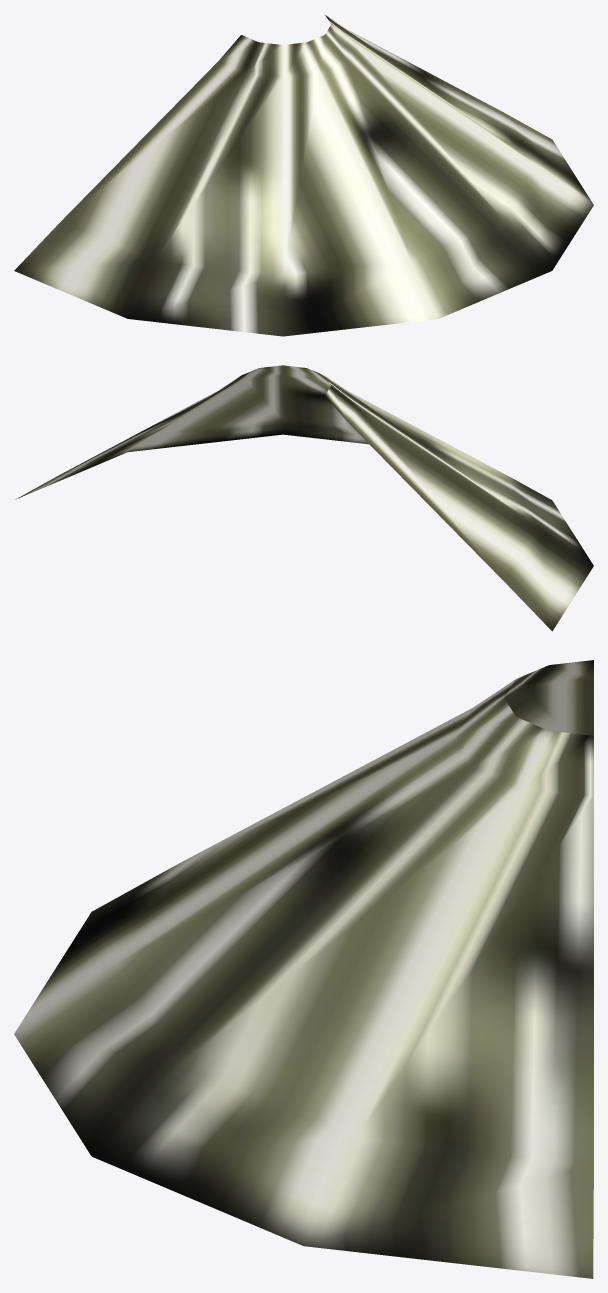
The model's file is pir_m_efx_chr_coneRays.fbx.
3 renders of one model, top to bottom at view 1: azimuth 30°, elevation 25°; view 2: azimuth 150°, elevation 25°; view 3: azimuth 270°, elevation 25°, orthographic. The views are drawn at different scales.
Visible parts, largest first — view 1: pCone1; view 2: pCone1; view 3: pCone1.
Part boxes in pixels (left/top/right/bottom): pCone1: left=14, top=15, right=593, bottom=336; pCone1: left=15, top=365, right=593, bottom=631; pCone1: left=14, top=660, right=593, bottom=1278.
Size of the model in its own units: 1166 by 373 by 584.
Materials: 1 (1 with a texture image).
